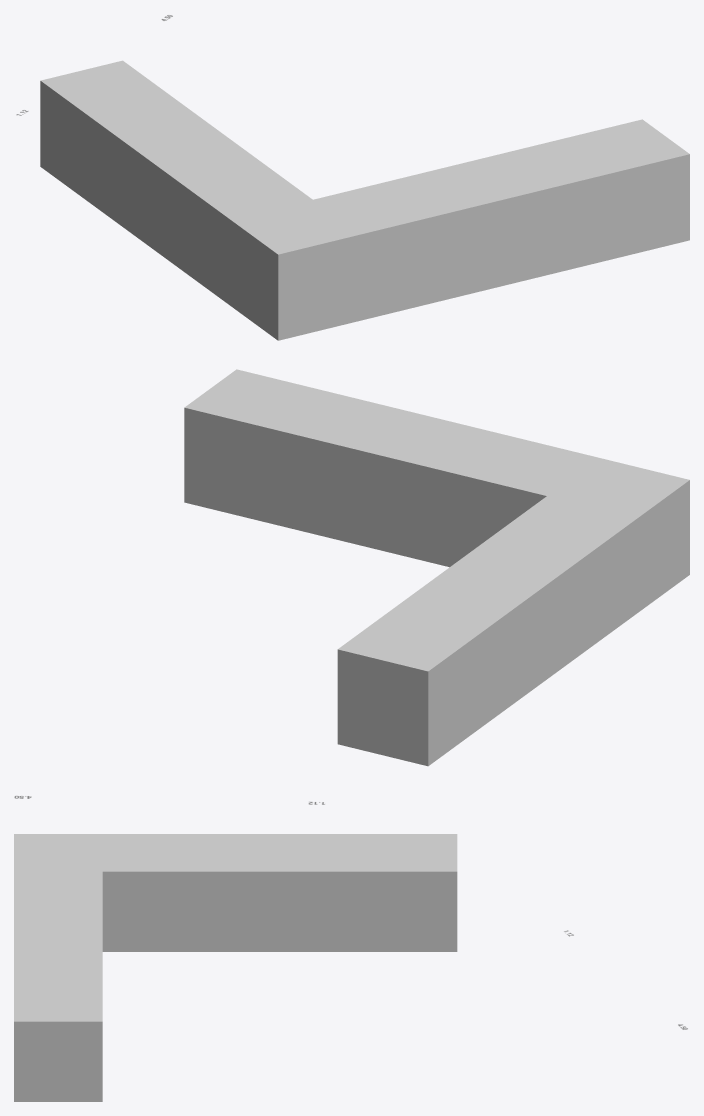
Rendered from Elements_Dimension_Continuous.glb.
The picture shows the model from 3 angles, top to bottom: view 1: azimuth 30°, elevation 25°; view 2: azimuth 150°, elevation 25°; view 3: azimuth 270°, elevation 25°; orthographic projection. The views are drawn at different scales.
Parts seen in each view (by area): view 1: 31b3d99b-5edf-467d-8a37-af0048a33dff_mesh; view 2: 31b3d99b-5edf-467d-8a37-af0048a33dff_mesh; view 3: 31b3d99b-5edf-467d-8a37-af0048a33dff_mesh.
Part boxes in pixels (left/top/right/bottom): 31b3d99b-5edf-467d-8a37-af0048a33dff_mesh: left=40, top=60, right=689, bottom=340; 31b3d99b-5edf-467d-8a37-af0048a33dff_mesh: left=184, top=369, right=689, bottom=766; 31b3d99b-5edf-467d-8a37-af0048a33dff_mesh: left=14, top=834, right=457, bottom=1101.
Bounding box in the file's own units: 5 × 1 × 7.62.
2 materials, 1 textured.
